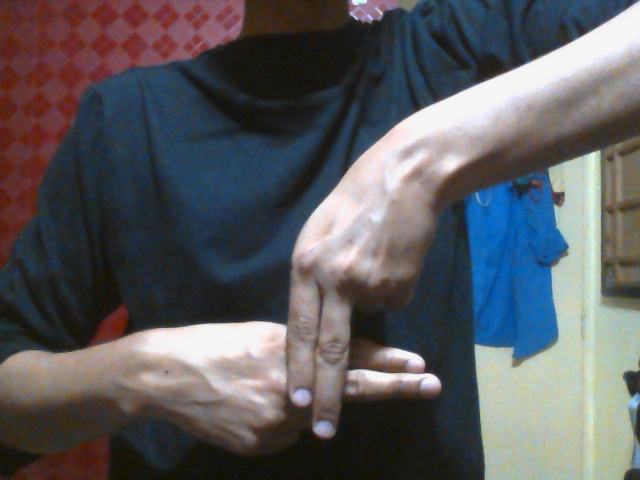F: (153, 181, 443, 459)
